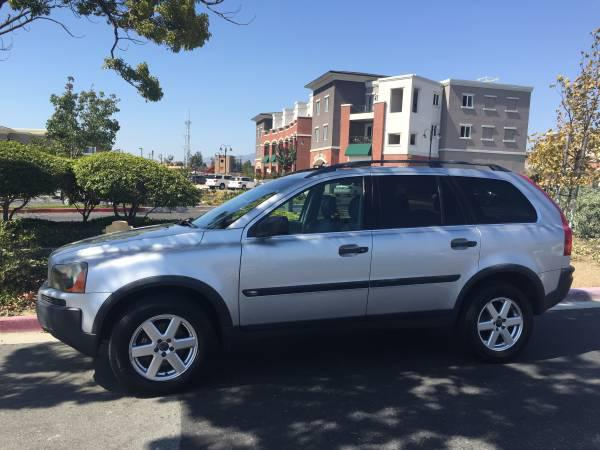volvo: (24, 144, 575, 401)
